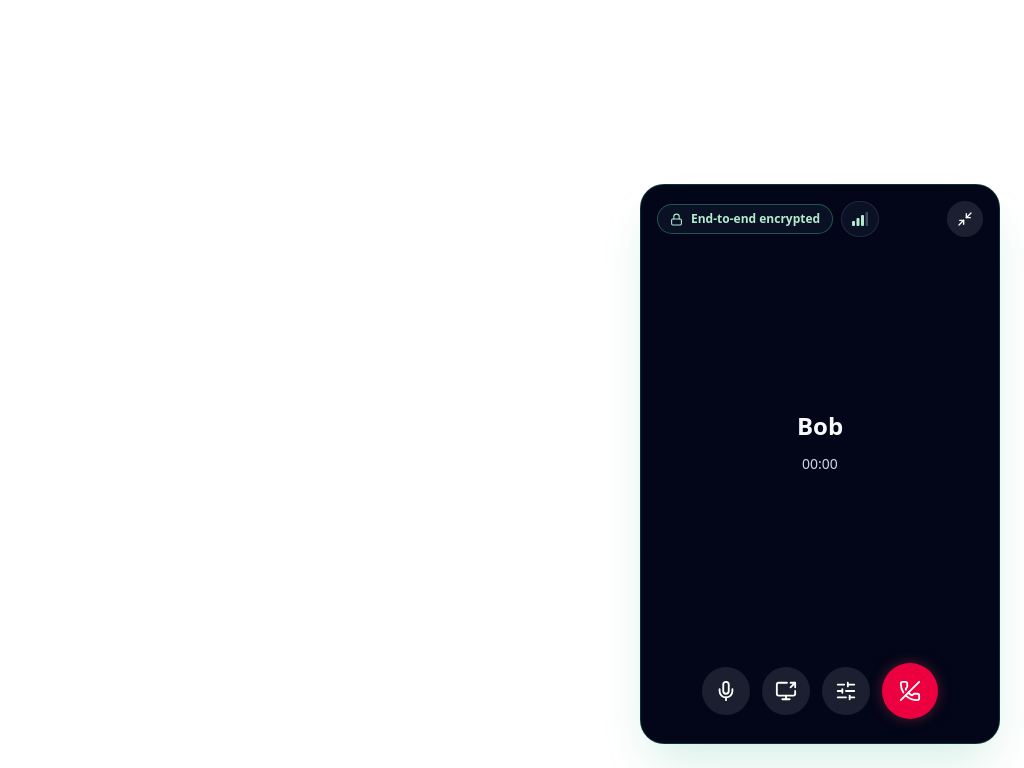
Test case: the connection indicator › a press opens the settings, where the numbers are
Click the button named "Connection: Good" at (860, 219), box [841,201,879,237]
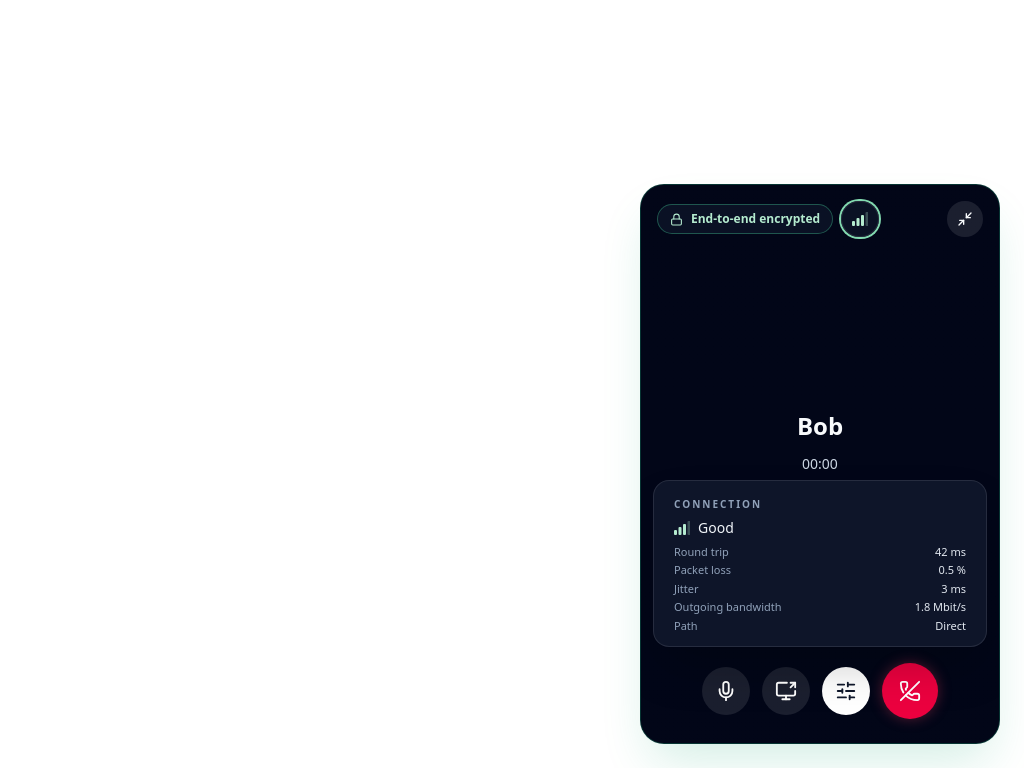
expect the element "Connection Good" is shown: met, box [674,496,762,536]
